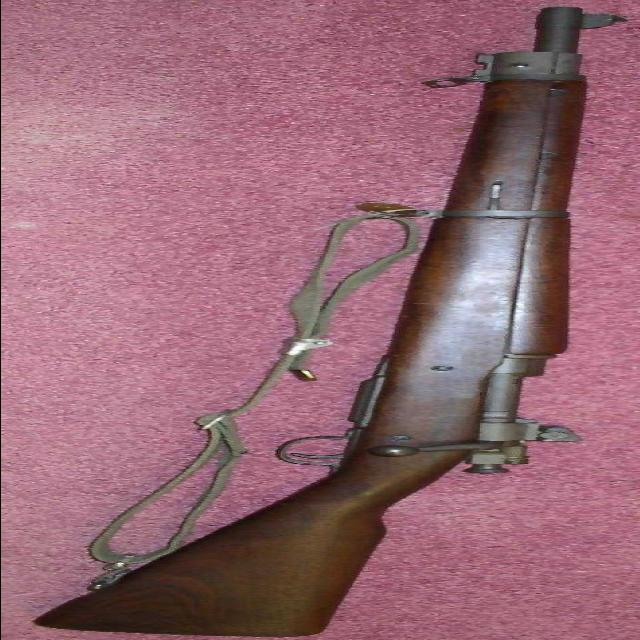heavyweapon: (8, 1, 634, 638)
